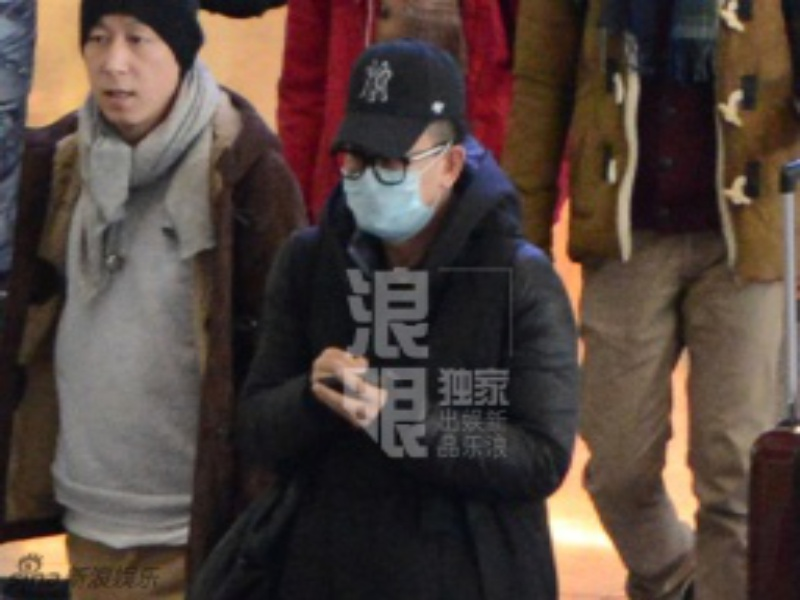ManaoArotava: (327, 44, 470, 256)
TsisyArotava: (70, 2, 200, 144)
